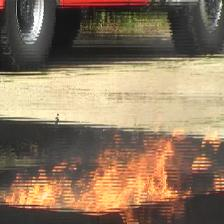fire: (4, 128, 224, 224)
